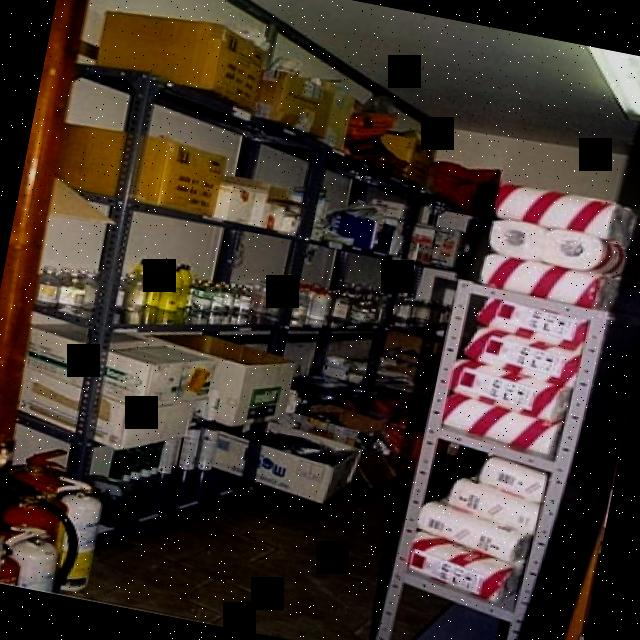box: (90, 3, 271, 97), (54, 124, 227, 214), (15, 367, 193, 448), (209, 422, 360, 504), (101, 339, 211, 411), (206, 348, 292, 429), (259, 68, 339, 134)
